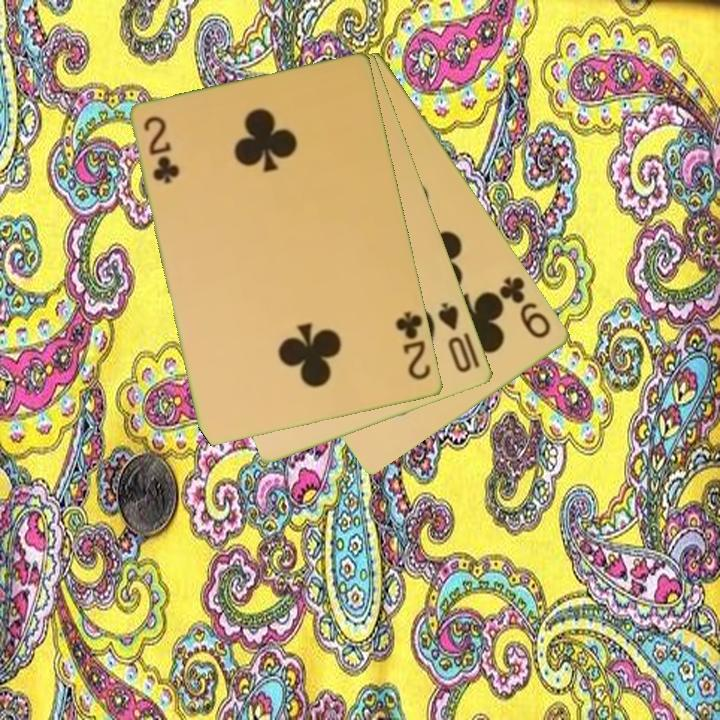10s: (435, 298, 475, 376)
2c: (392, 308, 435, 384), (140, 113, 181, 187)
9c: (496, 273, 555, 342)
